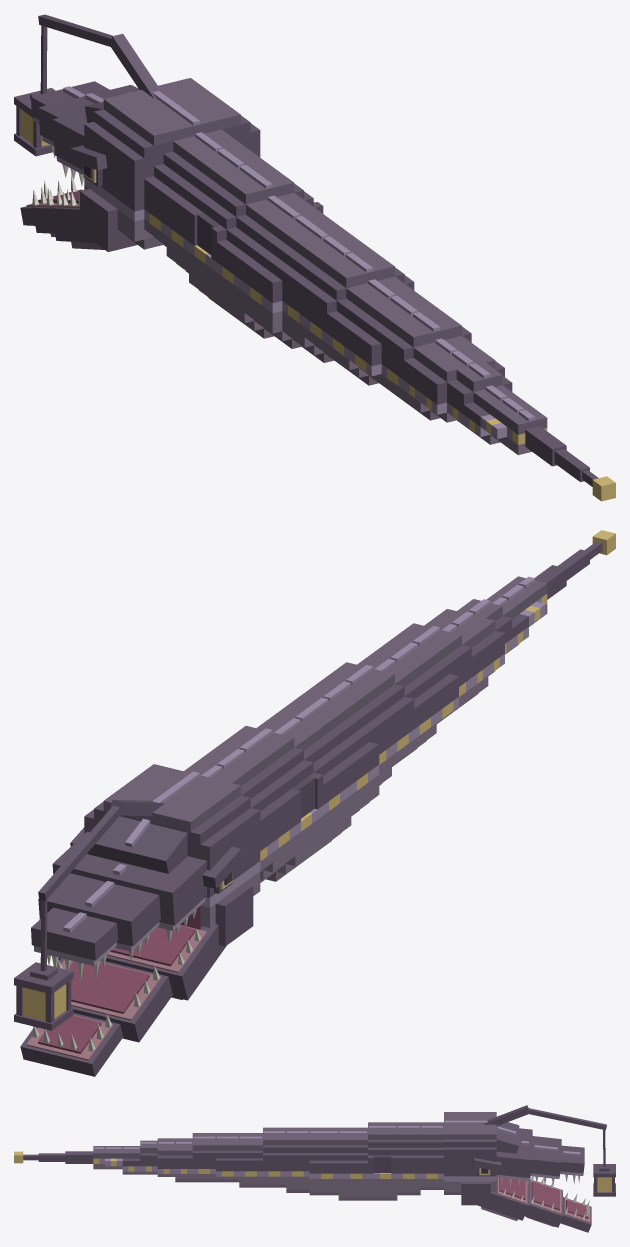
The model's file is LanternLeviathan.glb.
3 views of the same model, one above another, from view 1: azimuth 30°, elevation 25°; view 2: azimuth 150°, elevation 25°; view 3: azimuth 270°, elevation 25° (orthographic). The views are drawn at different scales.
Visible parts, largest first — view 1: Head, S3, S5, S4, S7, S2, S6, S1, S10, S8, S9, Jaw (+10 smaller); view 2: Head, Jaw, S3, S5, S4, S2, S7, S6, Lure, S9, S10, S8 (+8 smaller); view 3: Head, Jaw, S3, S4, S5, S2, S1, S6, S7, S8, S9, S10 (+12 smaller).
Part boxes in pixels (<box>): Head: <box>31,78,260,251</box>; S3: <box>189,162,323,317</box>; S5: <box>244,213,349,348</box>; S4: <box>217,193,321,338</box>; S7: <box>304,250,414,368</box>; S2: <box>166,146,265,273</box>; S6: <box>282,234,371,362</box>; S1: <box>144,129,243,246</box>; S10: <box>381,309,471,407</box>; S8: <box>327,276,416,385</box>; S9: <box>349,293,438,391</box>; Jaw: <box>20,173,104,249</box>; Head: <box>31,764,260,980</box>; Jaw: <box>20,924,226,1076</box>; S3: <box>218,726,323,881</box>; S5: <box>274,695,379,816</box>; S4: <box>256,715,351,860</box>; S2: <box>196,746,295,882</box>; S7: <box>324,662,414,766</box>; S6: <box>302,678,391,785</box>; Lure: <box>14,900,73,1030</box>; S9: <box>369,639,458,723</box>; S10: <box>391,623,471,721</box>; S8: <box>357,656,436,764</box>; Head: <box>444,1112,584,1205</box>; Jaw: <box>478,1176,591,1232</box>; S3: <box>368,1122,397,1200</box>; S4: <box>338,1127,367,1200</box>; S5: <box>309,1127,338,1195</box>; S2: <box>397,1122,420,1195</box>; S1: <box>420,1122,443,1189</box>; S6: <box>286,1127,309,1192</box>; S7: <box>263,1127,286,1187</box>; S8: <box>239,1133,262,1187</box>; S9: <box>216,1133,239,1182</box>; S10: <box>192,1133,215,1182</box>.
Bounding box in the file's own units: 6.75 × 9.97 × 46.37.
